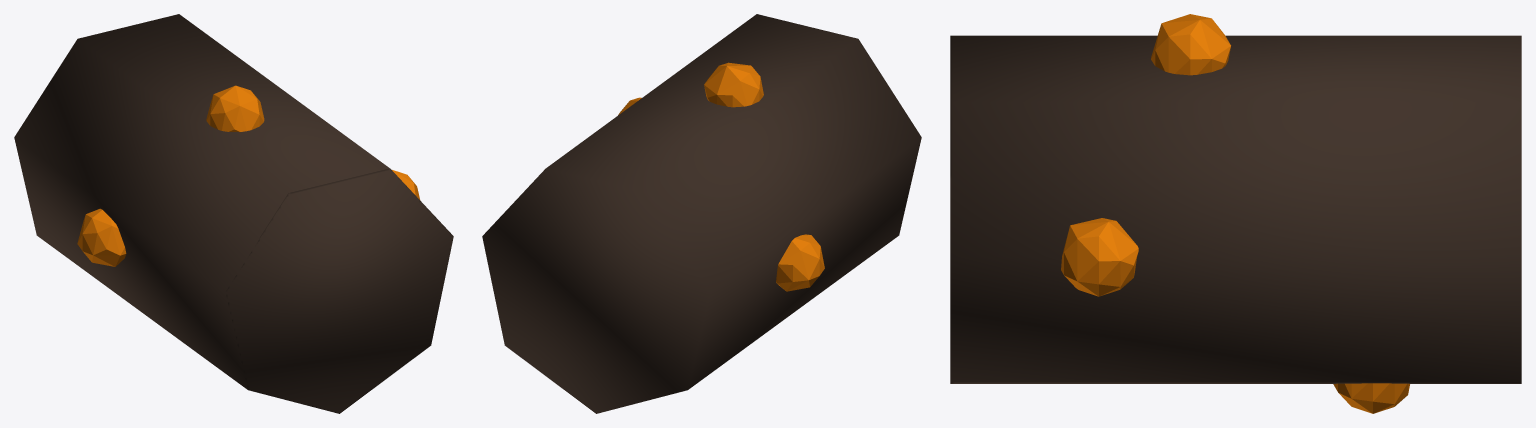
Rendered from 12_obstaculo_vulcanico.obj.
The picture shows the model from 3 angles, left to right: view 1: azimuth 30°, elevation 25°; view 2: azimuth 150°, elevation 25°; view 3: azimuth 270°, elevation 25°; orthographic projection. The views are drawn at different scales.
Parts seen in each view (by area): view 1: Cylinder, Icosphere.002, Icosphere.001; view 2: Cylinder, Icosphere.002, Icosphere.001; view 3: Cylinder, Icosphere.003, Icosphere.002, Icosphere.
Part boxes in pixels (bbox=[...]): Cylinder: bbox=[14, 14, 453, 413]; Icosphere.002: bbox=[206, 85, 264, 132]; Icosphere.001: bbox=[77, 208, 126, 266]; Cylinder: bbox=[482, 14, 921, 413]; Icosphere.002: bbox=[704, 62, 763, 107]; Icosphere.001: bbox=[776, 234, 824, 291]; Cylinder: bbox=[950, 35, 1521, 383]; Icosphere.003: bbox=[1061, 218, 1138, 296]; Icosphere.002: bbox=[1151, 14, 1230, 75]; Icosphere: bbox=[1333, 383, 1409, 413].
Size of the model in its own units: 1.82 by 1.85 by 2.5.
Materials: 5 (5 with a texture image).
